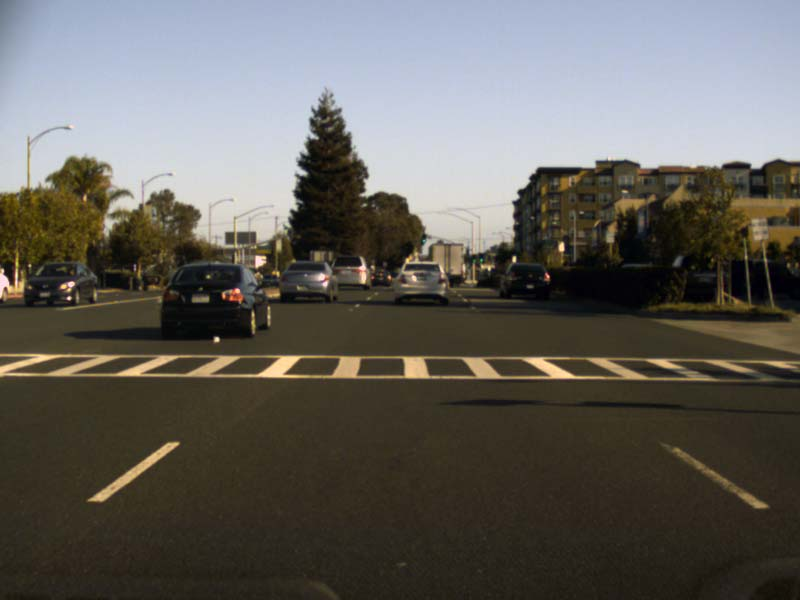Green: (478, 254, 483, 262), (421, 234, 425, 243), (471, 255, 475, 262)
